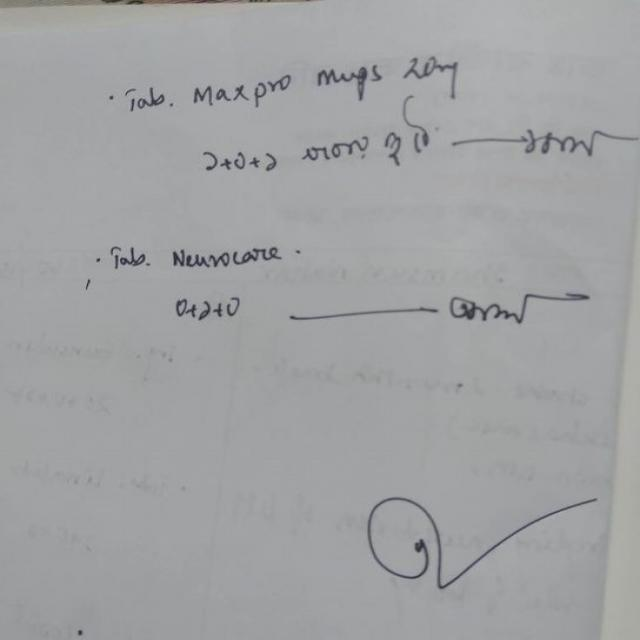Maxpro Mups: (184, 60, 390, 107)
Neurocare: (163, 239, 295, 277)
